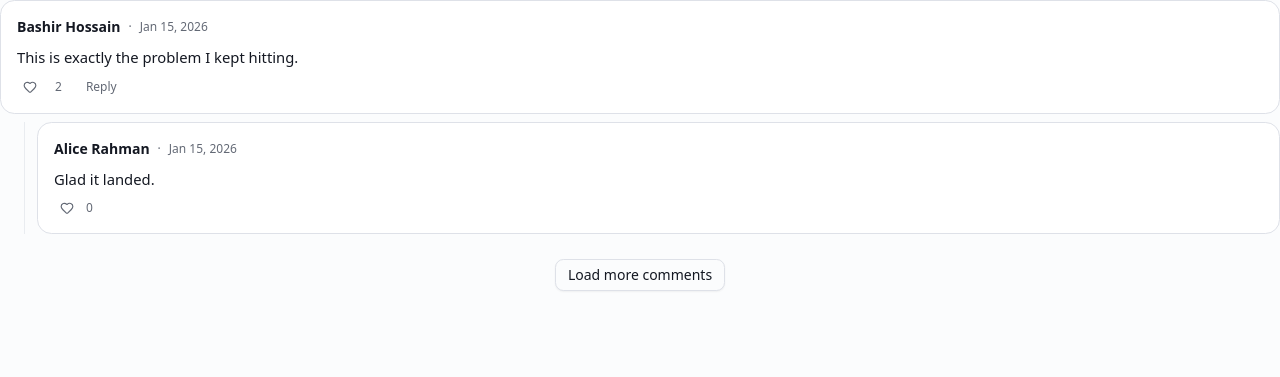
Test: CommentThread › appends the next page when "Load more" is pressed
Expected: the text "This is exactly the problem I kept hitting." is shown, [17,47,298,67]
Expected: the text "Does this hold up on a slow connection?" is not shown
Click the button "Load more comments".
click(640, 275)  # box [555,259,725,291]
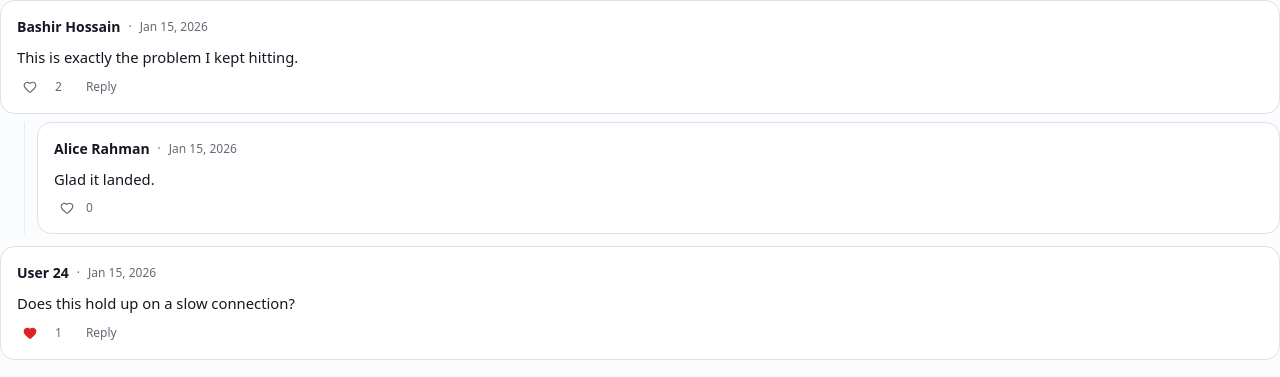
Expected: the text "Does this hold up on a slow connection?" is shown, [17,293,295,313]
Expected: the button "Load more comments" is gone
